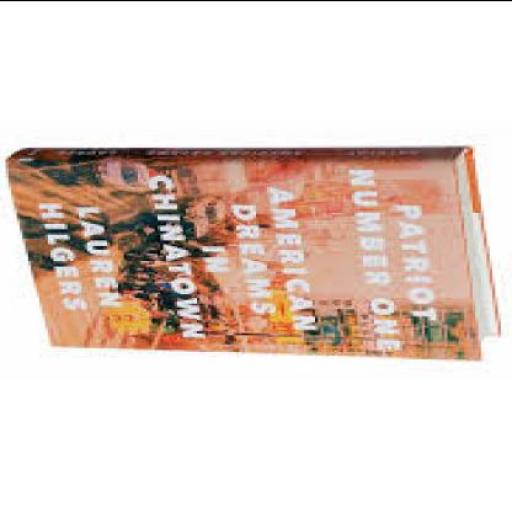paper: (11, 144, 503, 358), (9, 154, 481, 356)
